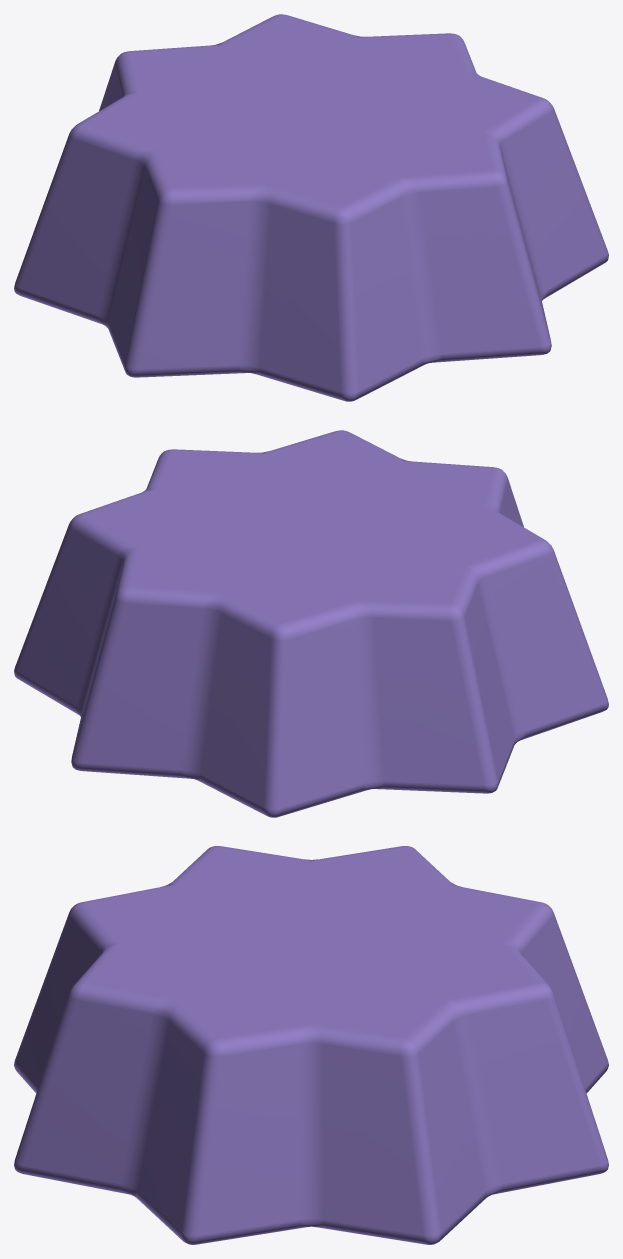
File: jello_low.fbx
3 renders of one model, top to bottom at view 1: azimuth 30°, elevation 25°; view 2: azimuth 150°, elevation 25°; view 3: azimuth 270°, elevation 25°, orthographic. The views are drawn at different scales.
Parts seen in each view (by area): view 1: sun; view 2: sun; view 3: sun.
Part boxes in pixels (x1,y1,x2,y2): sun: (14,14,608,401); sun: (14,430,608,817); sun: (14,846,608,1244).
Size of the model in its own units: 47.44 by 15.75 by 47.44.
